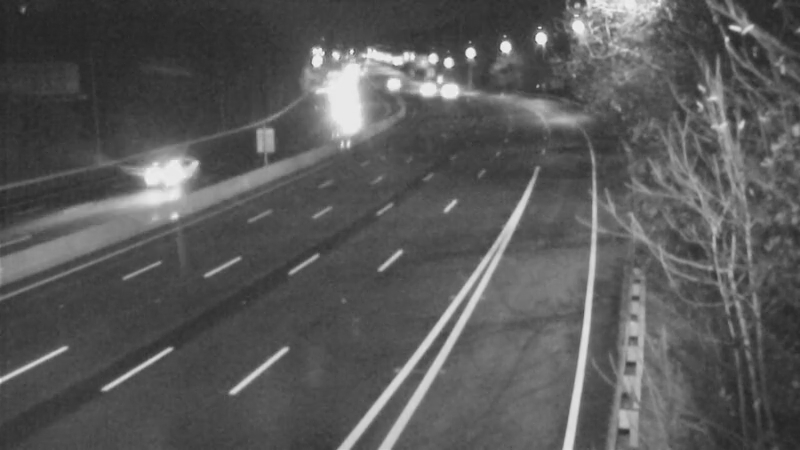vehicle: (123, 133, 203, 213), (368, 61, 418, 111), (397, 61, 447, 111), (405, 66, 455, 116), (426, 69, 476, 119), (318, 90, 368, 140)
